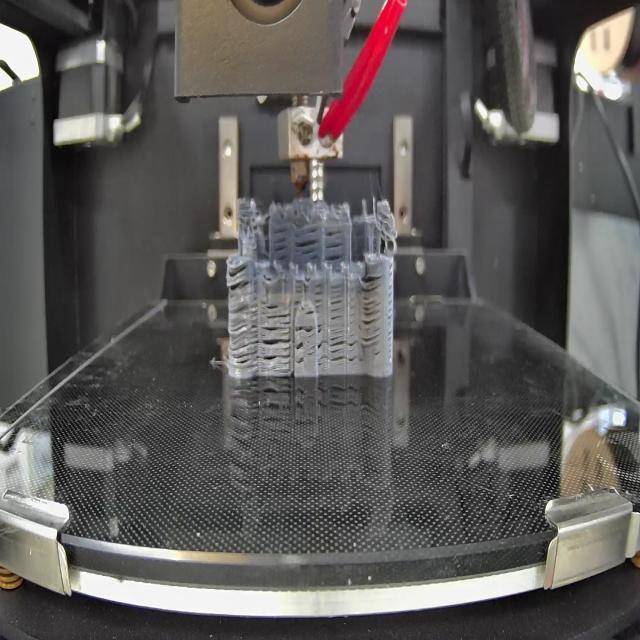cracks: (229, 301, 258, 372), (360, 269, 384, 350), (262, 323, 292, 379), (329, 327, 360, 365), (227, 258, 254, 290), (297, 223, 320, 259), (326, 226, 344, 264), (271, 225, 290, 260), (330, 280, 344, 324), (266, 299, 291, 320), (310, 276, 326, 308), (317, 324, 328, 369), (294, 341, 308, 368), (291, 278, 304, 304), (294, 323, 316, 335), (304, 310, 316, 316)
